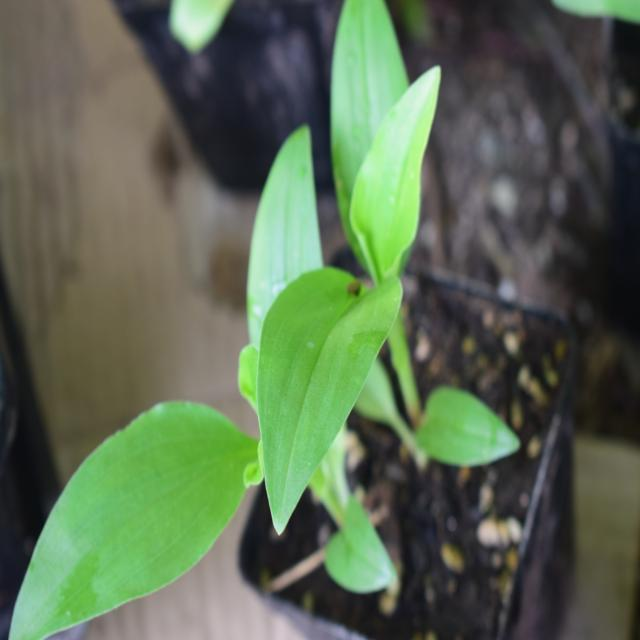Common Dayflower: (263, 12, 509, 544), (8, 369, 271, 627)
